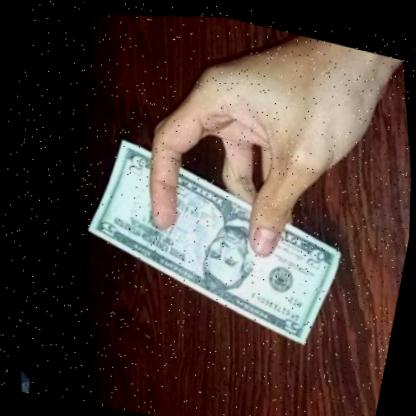five-front: (37, 80, 392, 394)
